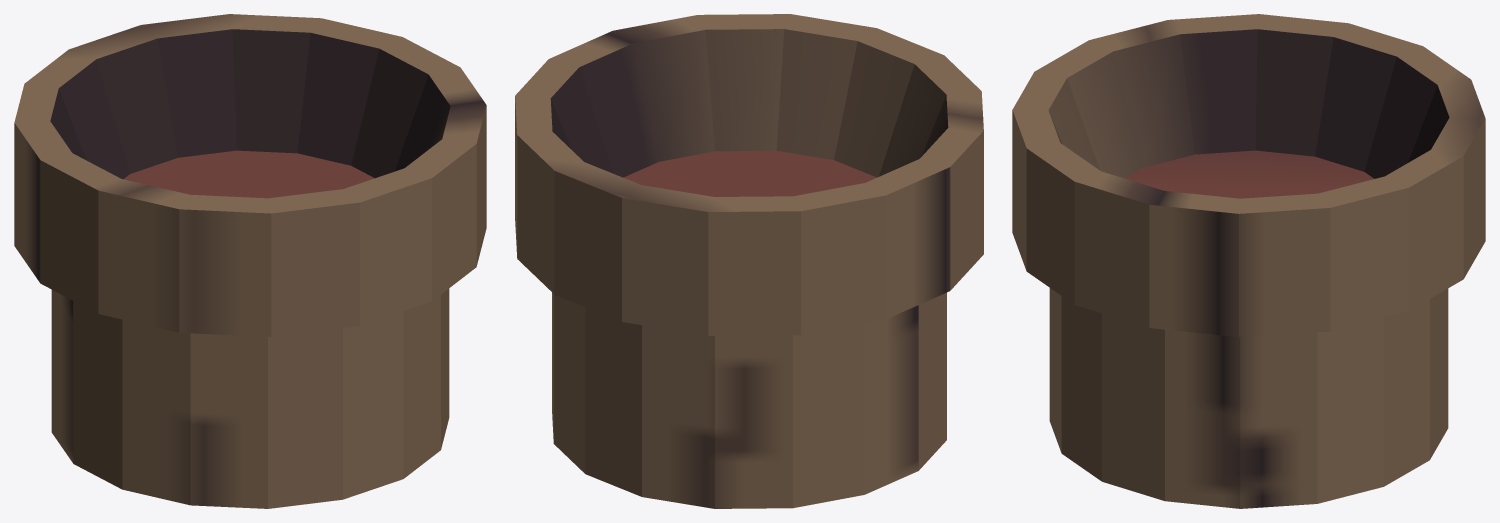
Rendered from VasoDePlanta.fbx.
3 views of the same model, side by side, from view 1: azimuth 30°, elevation 25°; view 2: azimuth 150°, elevation 25°; view 3: azimuth 270°, elevation 25° (orthographic).
Visible parts, largest first — view 1: VasoDePlanta; view 2: VasoDePlanta; view 3: VasoDePlanta.
Boxes of the visible parts, x1,y1,x2,y2 form: VasoDePlanta: (14,14,486,508); VasoDePlanta: (515,14,983,508); VasoDePlanta: (1012,14,1485,508).
Bounding box in the file's own units: 37.13 × 37.13 × 26.92.
